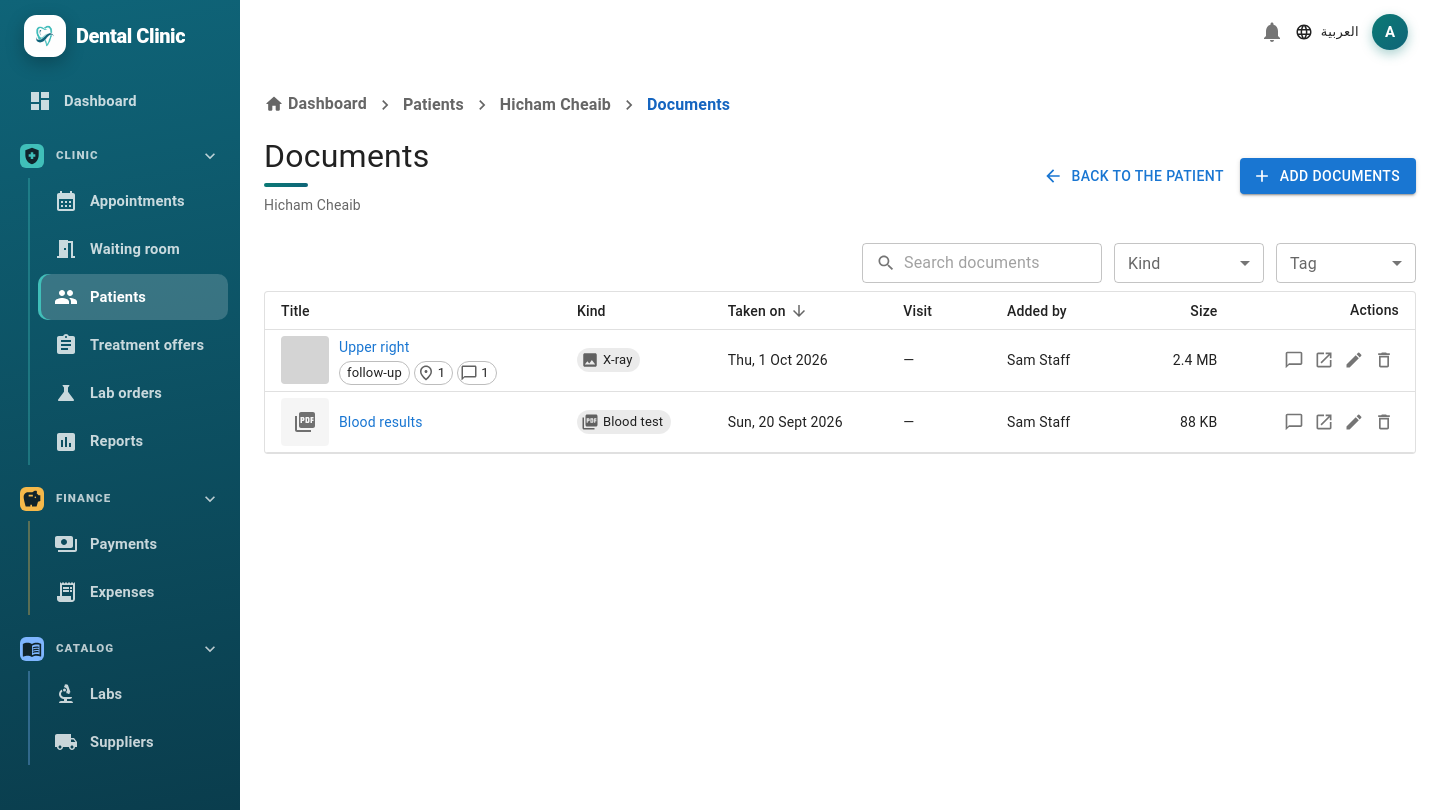
Test: comments › shows the server’s refusal
expect the heading "Documents" is shown: met, box [264,137,430,175]
Click the button named "Comments, tags and marks of Upper right" at (1294, 360), box [1279,346,1309,376]
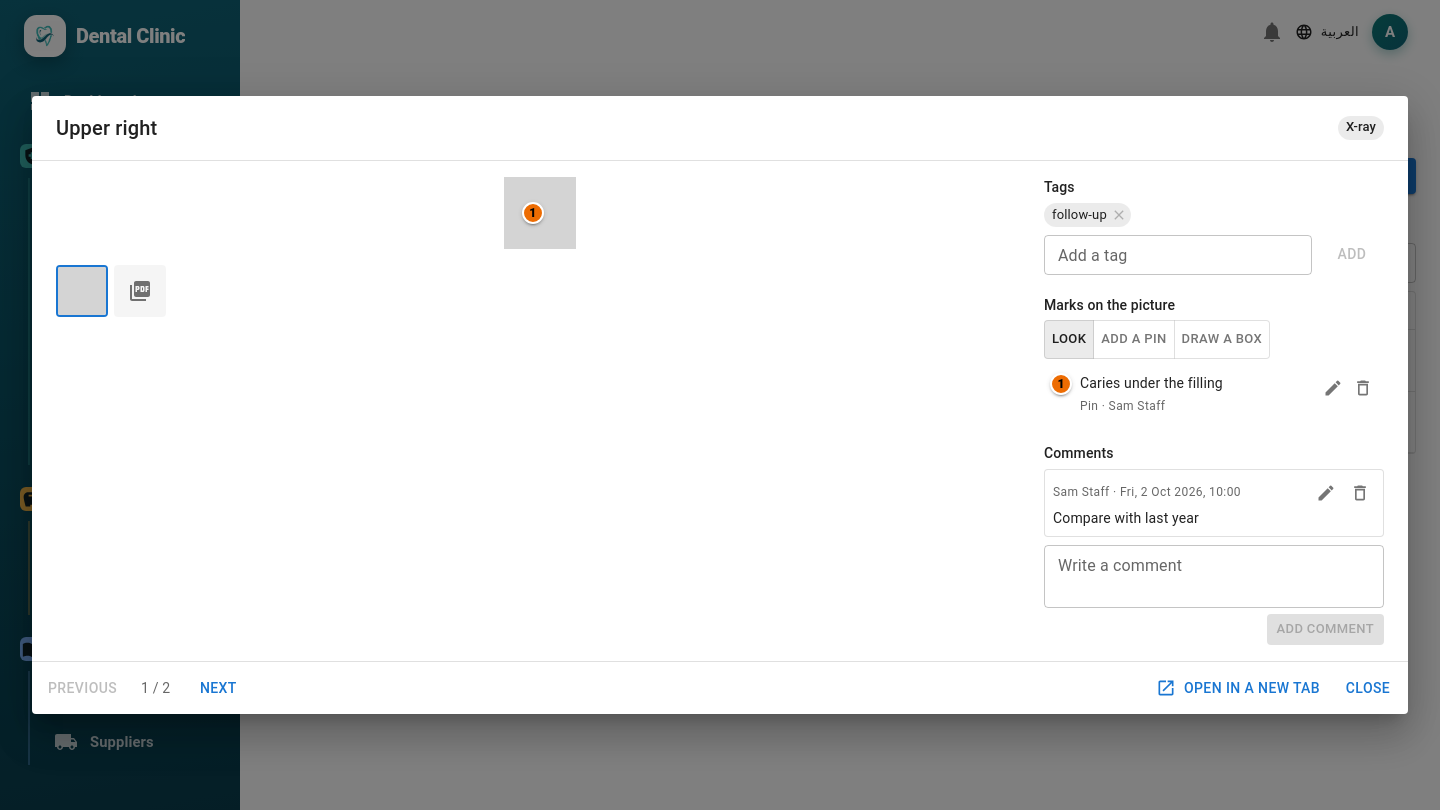
Type "Hello" into the text box labelled "Write a comment" at (1214, 577), box [1058,554,1370,600]
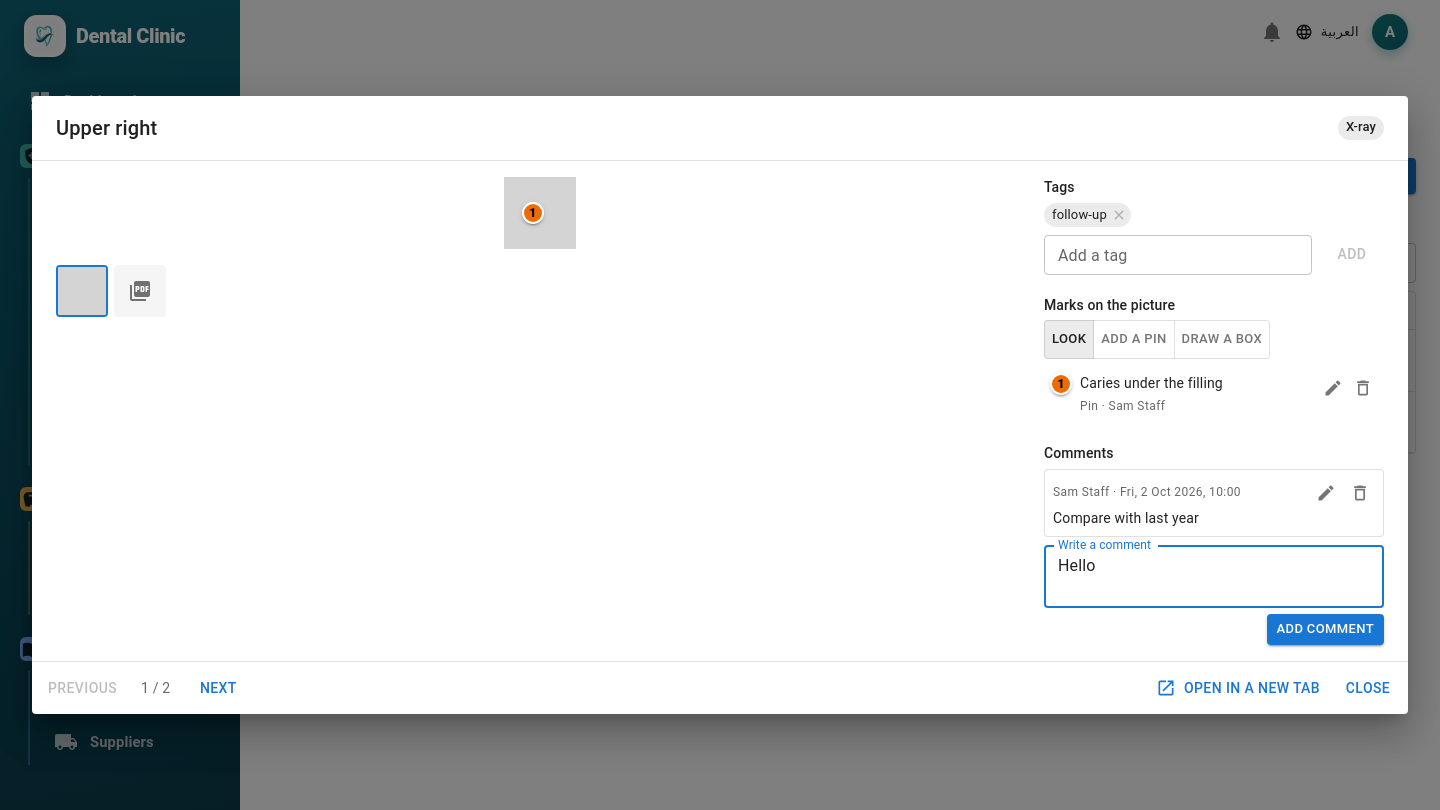
Click the button "Add comment" at (1325, 630), box [1266,614,1384,645]
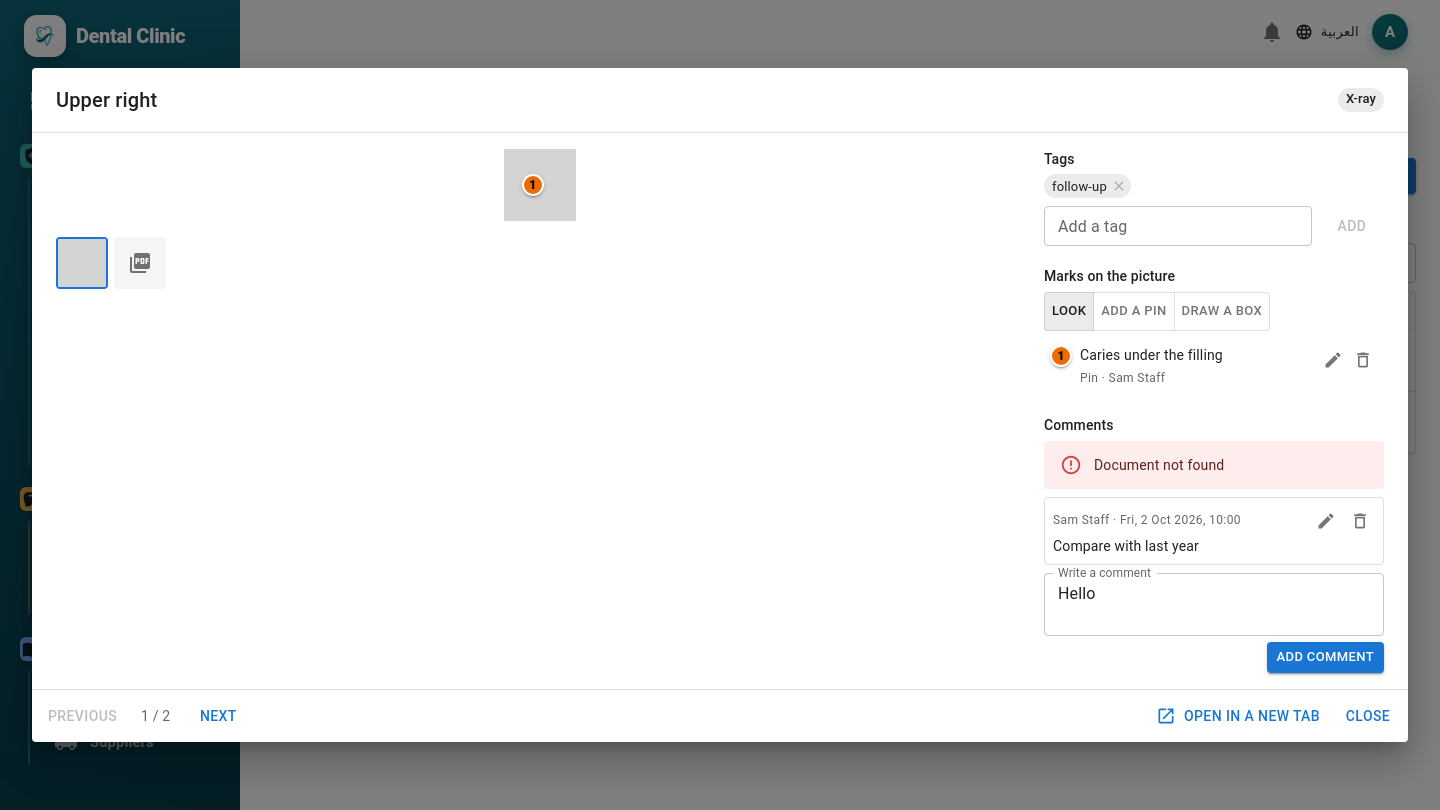
expect the message reads "Document not found": met, box [1094,457,1224,473]
